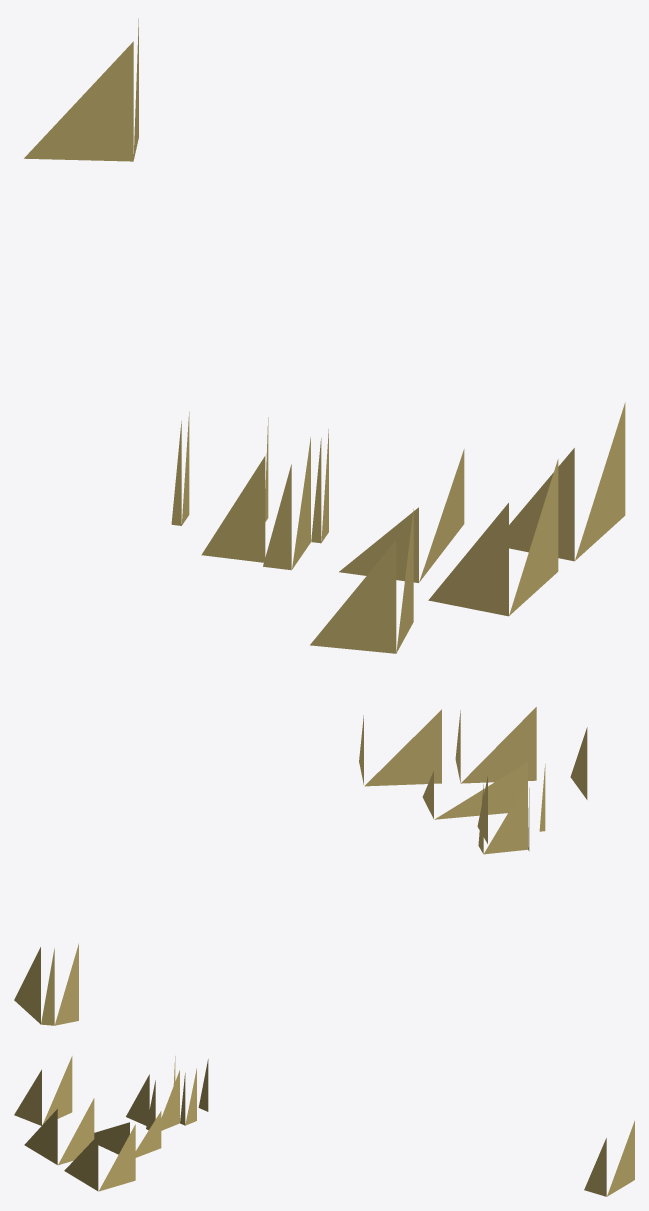
The picture shows the model from 3 angles, top to bottom: view 1: azimuth 30°, elevation 25°; view 2: azimuth 150°, elevation 25°; view 3: azimuth 270°, elevation 25°; orthographic projection. The views are drawn at different scales.
Bounding box in the file's own units: 162 × 47.5 × 444.
